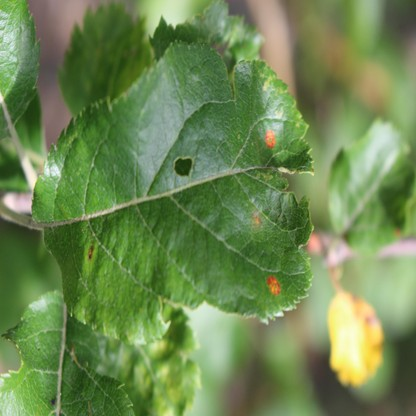rust: (266, 275, 279, 294), (266, 130, 274, 148), (88, 245, 93, 258), (254, 216, 258, 222)
